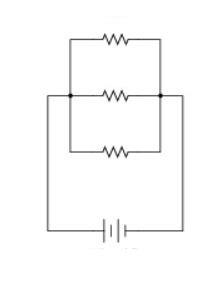resistor: (86, 24, 138, 52), (90, 83, 140, 112), (90, 136, 139, 163)
